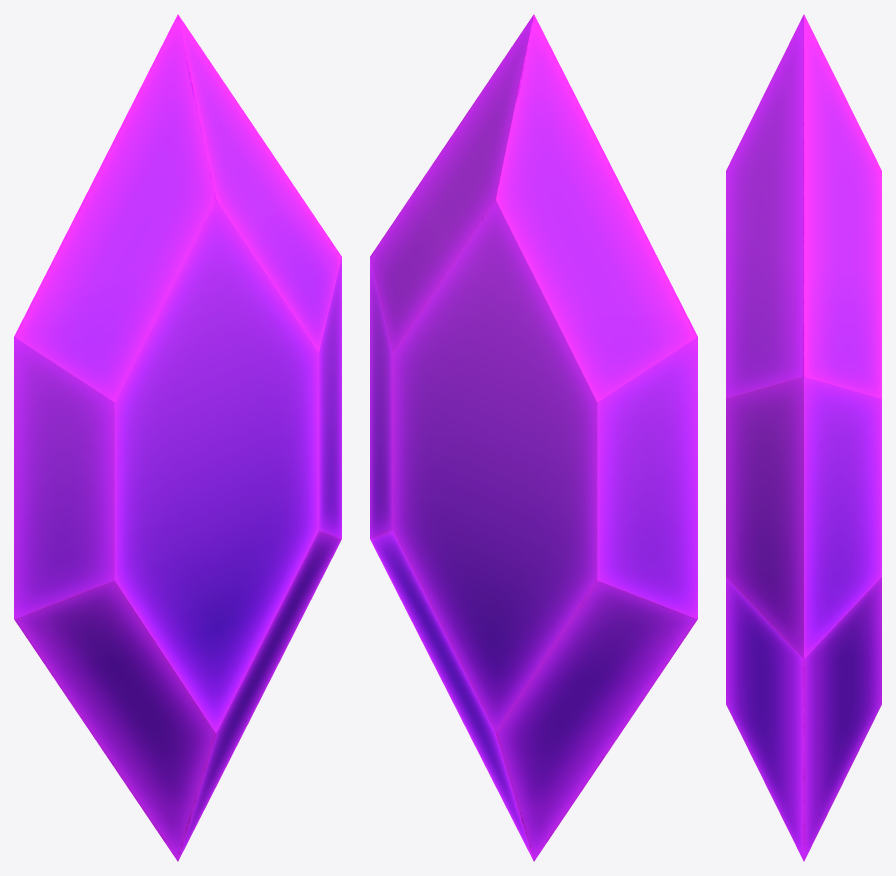
The model's file is crystal.glb.
The picture shows the model from 3 angles, left to right: view 1: azimuth 30°, elevation 25°; view 2: azimuth 150°, elevation 25°; view 3: azimuth 270°, elevation 25°; orthographic projection.
Visible parts, largest first — view 1: 1.92_Material.001_0; view 2: 1.92_Material.001_0; view 3: 1.92_Material.001_0.
Part boxes in pixels (x1,y1,x2,y2): 1.92_Material.001_0: (14,14,341,861); 1.92_Material.001_0: (370,14,697,861); 1.92_Material.001_0: (726,14,881,861).
Bounding box in the file's own units: 1.9 × 4.69 × 0.7816.
1 material, 1 textured.
